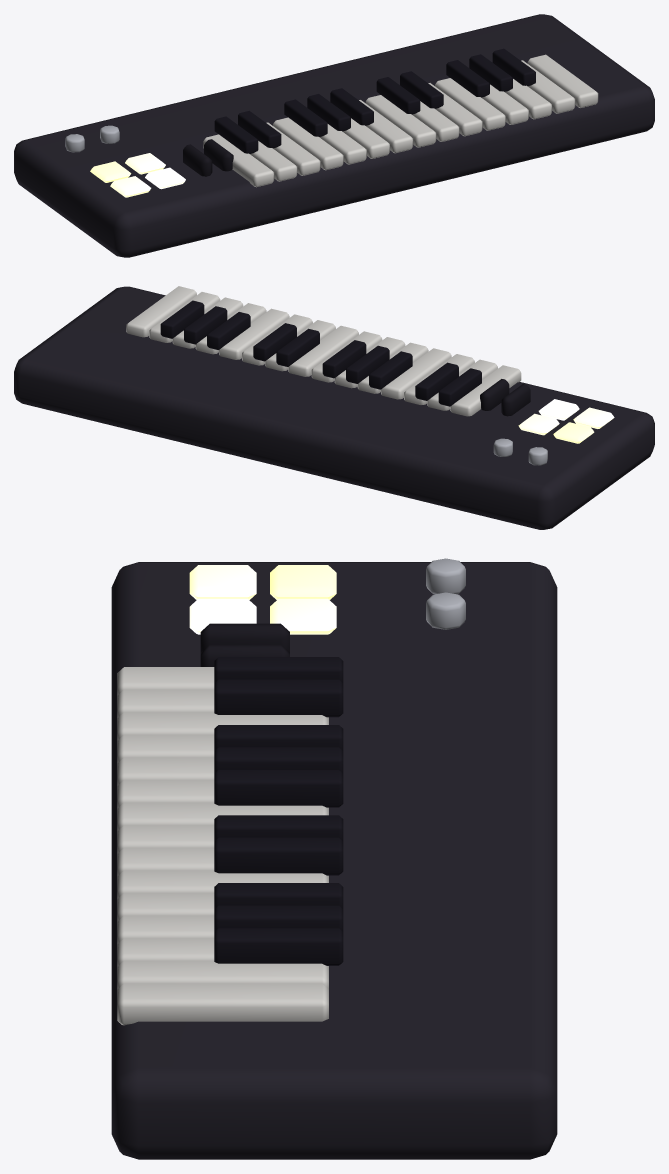
File: midi_keyboard.glb
3 renders of one model, top to bottom at view 1: azimuth 30°, elevation 25°; view 2: azimuth 150°, elevation 25°; view 3: azimuth 270°, elevation 25°, orthographic. The views are drawn at different scales.
Visible parts, largest first — view 1: midi_keyboard, key_c6, key_f5, key_f4, key_c5, key_c4, key_e5, key_b5, key_e4, key_b4, key_d5, key_g4 (+4 smaller); view 2: midi_keyboard, key_c6, key_c5, key_f4, key_f5, key_c4, key_e5, key_b4, key_b5, key_e4, key_g5, key_a5 (+4 smaller); view 3: midi_keyboard, key_c6, key_b5, key_b4, key_e4, key_e5, key_d4, key_g5, key_a5, key_a4, key_c5, key_d5 (+4 smaller).
Part boxes in pixels (x1,y1,x2,y2): midi_keyboard: (14, 14, 654, 257); key_c6: (527, 54, 598, 107); key_f5: (435, 78, 505, 130); key_f4: (273, 117, 343, 170); key_c5: (365, 95, 436, 147); key_c4: (203, 134, 274, 187); key_e5: (428, 83, 482, 136); key_b5: (521, 60, 575, 113); key_e4: (266, 122, 320, 175); key_b4: (359, 100, 413, 153); key_d5: (412, 101, 459, 141); key_g4: (319, 124, 366, 164); midi_keyboard: (14, 286, 654, 529); key_c6: (126, 286, 196, 337); key_c5: (288, 325, 358, 376); key_f4: (381, 348, 451, 399); key_f5: (219, 308, 289, 359); key_c4: (450, 365, 521, 416); key_e5: (242, 314, 312, 365); key_b4: (311, 331, 382, 382); key_b5: (149, 292, 220, 342); key_e4: (404, 354, 474, 404); key_g5: (195, 303, 266, 354); key_a5: (172, 297, 243, 348); midi_keyboard: (111, 558, 557, 1159); key_c6: (117, 983, 328, 1025); key_b5: (117, 961, 328, 989); key_b4: (117, 802, 328, 830); key_e4: (117, 712, 328, 740); key_e5: (117, 870, 328, 898); key_d4: (117, 689, 328, 717); key_g5: (117, 915, 214, 943); key_a5: (117, 938, 328, 966); key_a4: (117, 780, 328, 808); key_c5: (117, 825, 214, 853); key_d5: (117, 848, 328, 876).
Bounding box in the file's own units: 0.56 × 0.067 × 0.2.
